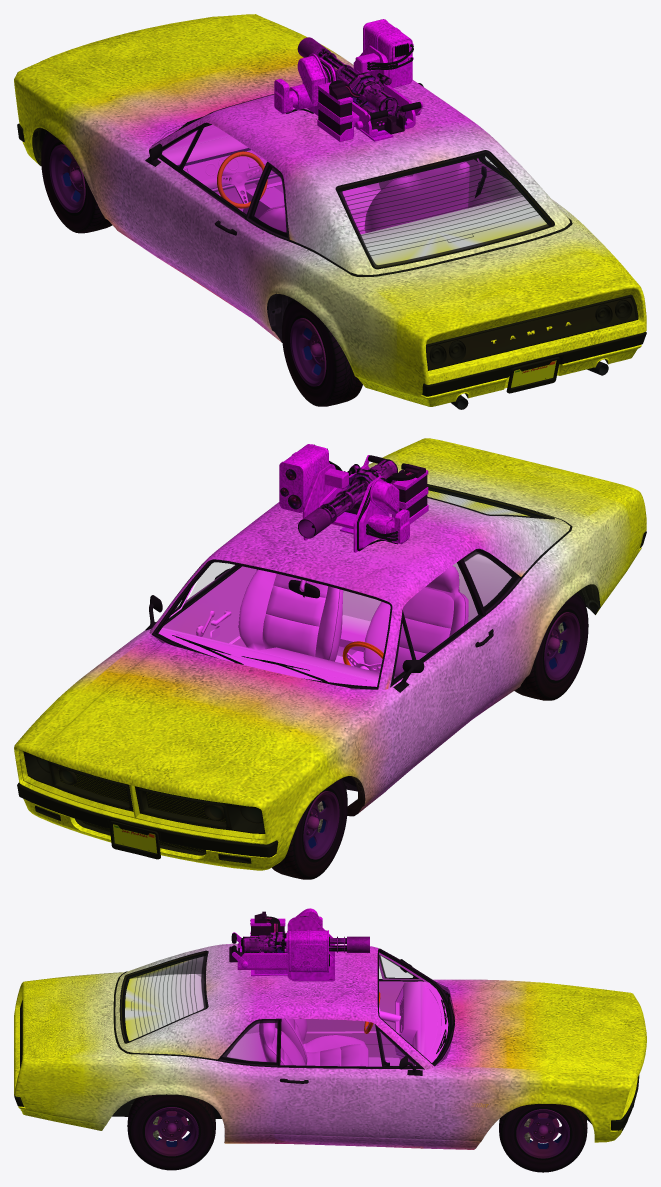
The model's file is tampa3.glb.
The picture shows the model from 3 angles, top to bottom: view 1: azimuth 30°, elevation 25°; view 2: azimuth 150°, elevation 25°; view 3: azimuth 270°, elevation 25°; orthographic projection. The views are drawn at different scales.
Parts seen in each view (by area): view 1: bodyshell, misc_c, chassis, bonnet, boot, windscreen_r, door_dside_f, misc_v, misc_k, misc_h, wheel_lr, window_lf (+7 smaller); view 2: bonnet, chassis, misc_c, bodyshell, misc_v, misc_f, door_dside_f, boot, misc_k, door_pside_f, window_lf, wheel_lr (+7 smaller); view 3: bodyshell, bonnet, chassis, misc_c, door_pside_f, misc_v, boot, wheel_rr, windscreen_r, wheel_rf, misc_k, window_rf (+6 smaller).
Part boxes in pixels (box(x1,y1,x2,y2)): bodyshell: box(152, 94, 646, 406); misc_c: box(149, 79, 569, 274); chassis: box(40, 122, 607, 397); bonnet: box(27, 14, 337, 146); boot: box(360, 226, 633, 343); windscreen_r: box(338, 152, 552, 267); door_dside_f: box(122, 123, 249, 314); misc_v: box(14, 14, 353, 256); misc_k: box(274, 19, 422, 141); misc_h: box(426, 294, 638, 370); wheel_lr: box(282, 299, 362, 406); window_lf: box(183, 123, 266, 216); bonnet: box(26, 634, 377, 804); chassis: box(153, 485, 600, 806); misc_c: box(149, 474, 570, 689); bodyshell: box(151, 438, 646, 786); misc_v: box(14, 630, 394, 870); misc_f: box(23, 751, 265, 870); door_dside_f: box(389, 610, 499, 786); boot: box(388, 438, 632, 526); misc_k: box(279, 444, 428, 552); door_pside_f: box(133, 563, 253, 647); window_lf: box(403, 561, 481, 659); wheel_lr: box(514, 592, 588, 700); bodyshell: box(14, 948, 454, 1148); bonnet: box(435, 981, 646, 1080); chassis: box(112, 949, 591, 1142); misc_c: box(115, 943, 434, 1069); door_pside_f: box(274, 1024, 445, 1146); misc_v: box(423, 979, 635, 1149); boot: box(22, 973, 123, 1059); wheel_rr: box(127, 1094, 215, 1170); windscreen_r: box(122, 952, 206, 1041); wheel_rf: box(499, 1104, 587, 1172); misc_k: box(231, 908, 334, 981); window_rf: box(281, 1019, 381, 1067).
Size of the model in its own units: 1.92 by 1.78 by 4.89.
21 materials, 16 textured.
